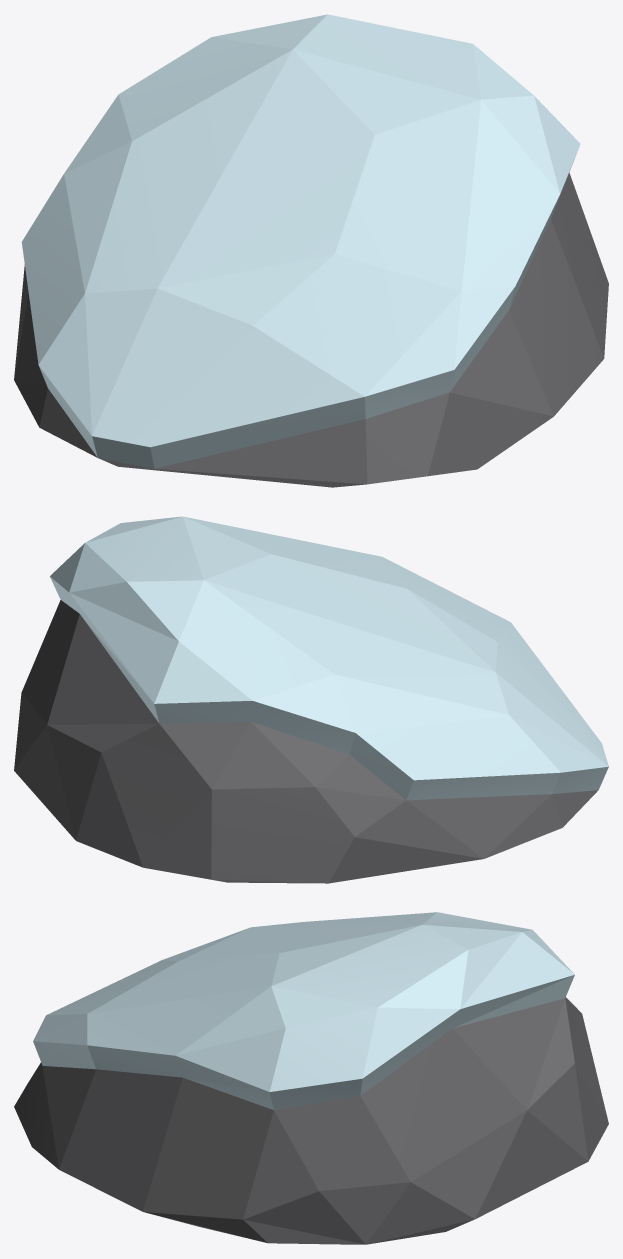
Rendered from Roca01.glb.
3 views of the same model, one above another, from view 1: azimuth 30°, elevation 25°; view 2: azimuth 150°, elevation 25°; view 3: azimuth 270°, elevation 25° (orthographic). The views are drawn at different scales.
Visible parts, largest first — view 1: SM_Env_Rock_07_Snow; view 2: SM_Env_Rock_07_Snow; view 3: SM_Env_Rock_07_Snow.
Boxes of the visible parts, <box> form: SM_Env_Rock_07_Snow: <box>14,14,608,487</box>; SM_Env_Rock_07_Snow: <box>14,516,608,883</box>; SM_Env_Rock_07_Snow: <box>14,912,608,1244</box>.
Bounding box in the file's own units: 1.44 × 0.7087 × 1.47.
Materials: 1 (1 with a texture image).
